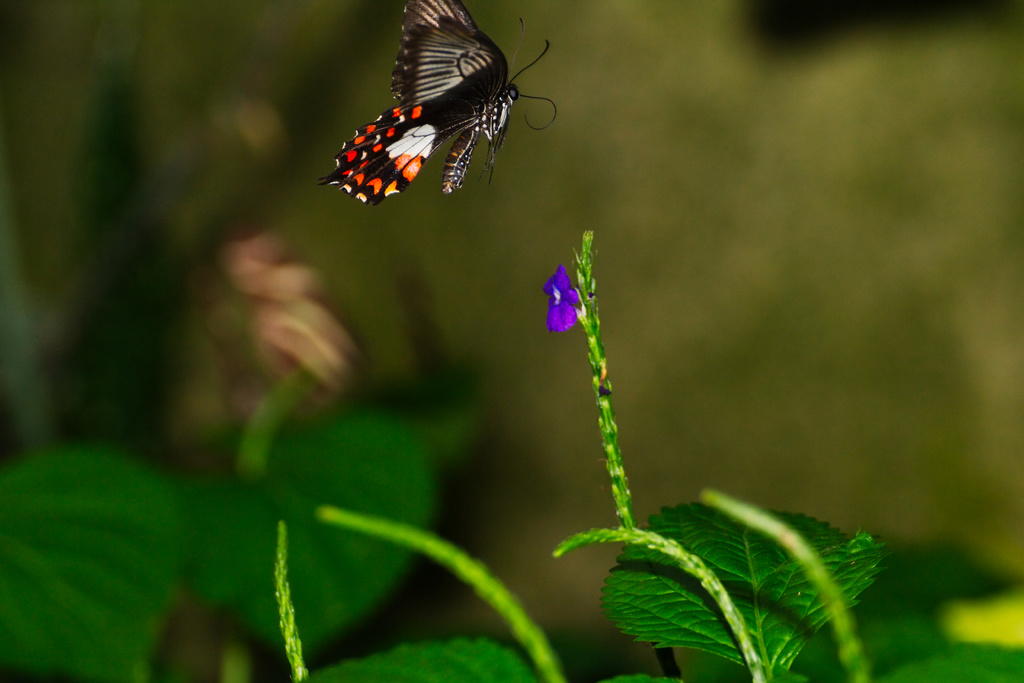Butterfly: (322, 1, 552, 212)
